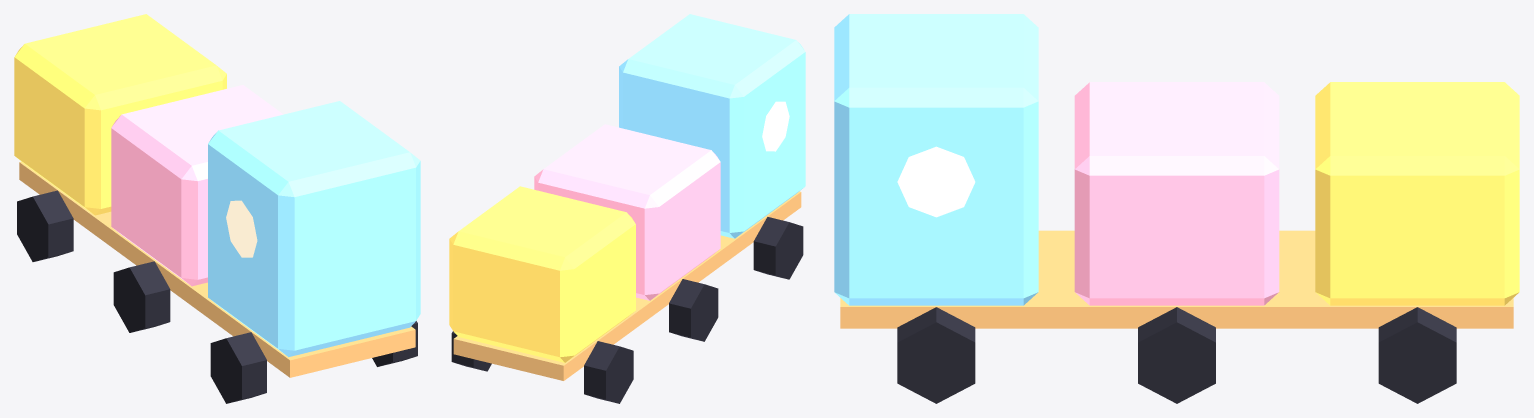
Rendered from toy-block-train.glb.
3 renders of one model, left to right at view 1: azimuth 30°, elevation 25°; view 2: azimuth 150°, elevation 25°; view 3: azimuth 270°, elevation 25°, orthographic. The views are drawn at different scales.
Parts seen in each view (by area): view 1: toy-block-train; view 2: toy-block-train; view 3: toy-block-train.
Boxes of the visible parts, <box> form: toy-block-train: <box>14,14,420,403</box>; toy-block-train: <box>449,14,805,403</box>; toy-block-train: <box>834,14,1519,403</box>.
Size of the model in its own units: 0.8398 by 1.1 by 2.28.
